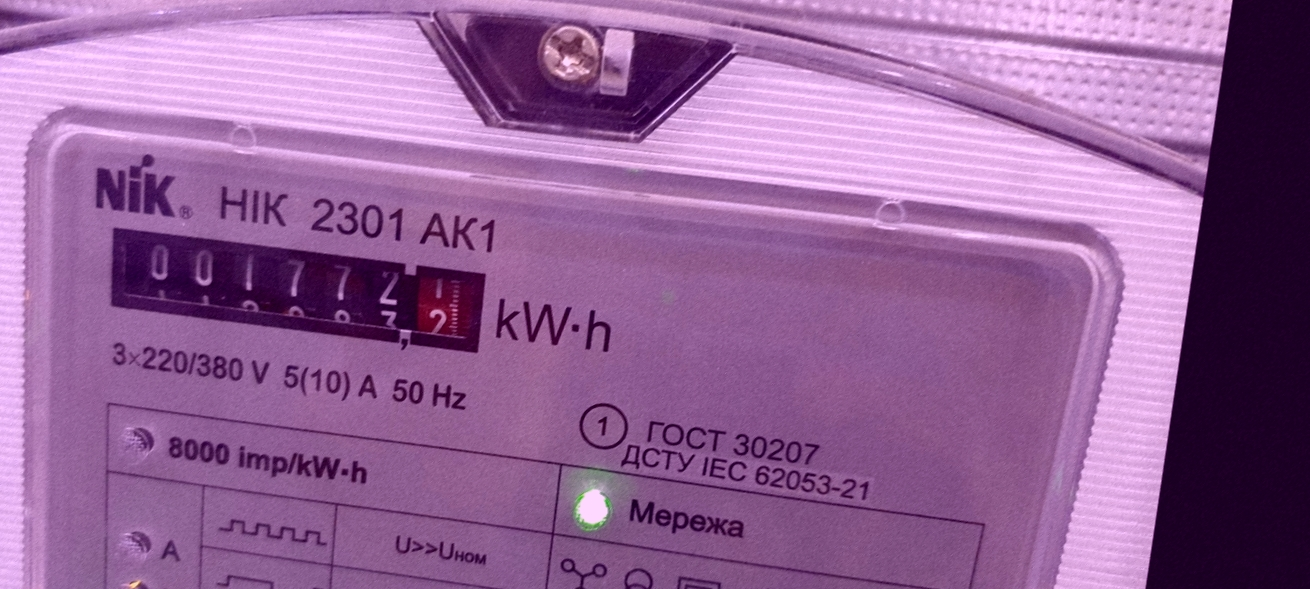0: (143, 239, 176, 283), (191, 246, 219, 288)
1: (239, 252, 261, 293), (431, 276, 448, 303)
2: (376, 269, 404, 309), (423, 305, 450, 337)
3: (377, 308, 402, 331)
7: (281, 257, 309, 300), (328, 262, 354, 303)
screen: (90, 207, 508, 374)
